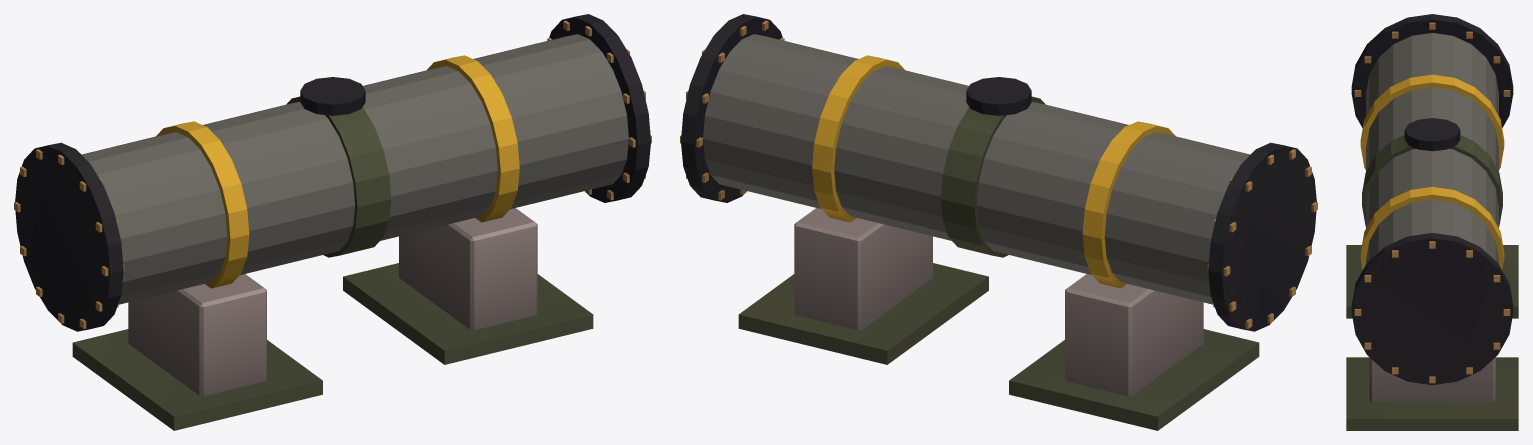
Rendered from kit.dispersal-pipe-straight.glb.
The picture shows the model from 3 angles, left to right: view 1: azimuth 30°, elevation 25°; view 2: azimuth 150°, elevation 25°; view 3: azimuth 270°, elevation 25°; orthographic projection. The views are drawn at different scales.
Visible parts, largest first — view 1: body; view 2: body; view 3: body.
Boxes of the visible parts, box(x1,y1,x2,y2) form: body: box(14, 14, 651, 430); body: box(680, 14, 1317, 430); body: box(1346, 14, 1518, 430).
Bounding box in the file's own units: 8.08 × 3.62 × 2.6.
